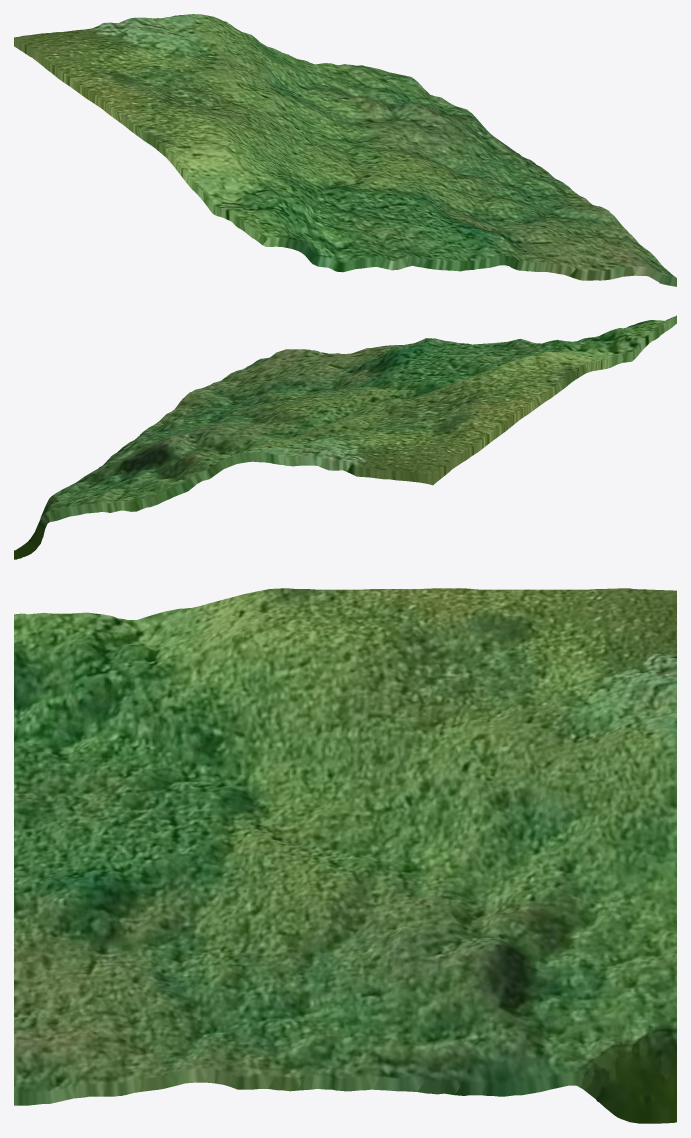
Rendered from z20-167556-405172-h0-yup-uvflip-v3-world.glb.
3 renders of one model, top to bottom at view 1: azimuth 30°, elevation 25°; view 2: azimuth 150°, elevation 25°; view 3: azimuth 270°, elevation 25°, orthographic. The views are drawn at different scales.
Bounding box in the file's own units: 30.16 × 12.96 × 30.32.
1 material, 1 textured.
